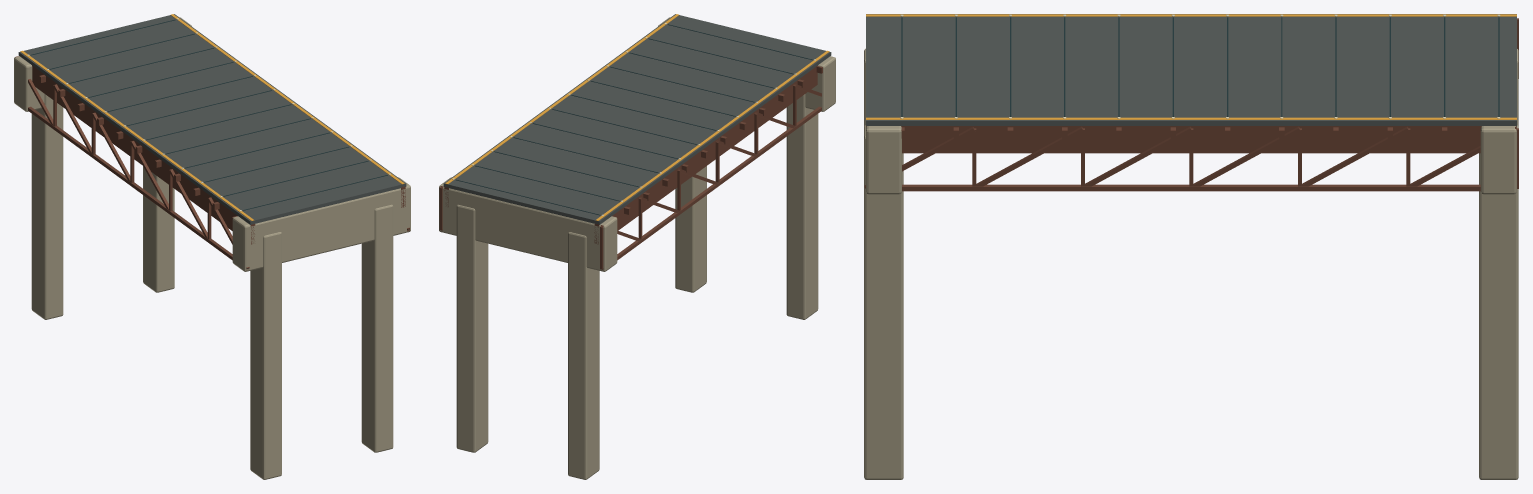
File: bridge_intact.glb
3 views of the same model, side by side, from view 1: azimuth 30°, elevation 25°; view 2: azimuth 150°, elevation 25°; view 3: azimuth 270°, elevation 25° (orthographic). The views are drawn at different scales.
Visible parts, largest first — view 1: Bridge wearing course, Bridge pier.003, Bridge pier.002, Concrete bridge abutment.001, Bridge pier, Bridge pier.001, Deep edge girder, Concrete bridge abutment, Bridge yellow edge.001, Bridge yellow edge; view 2: Bridge wearing course, Bridge pier.001, Bridge pier, Concrete bridge abutment, Bridge pier.002, Bridge pier.003, Deep edge girder, Concrete bridge abutment.001, Bridge yellow edge.001, Bridge yellow edge; view 3: Bridge wearing course, Deep edge girder.001, Bridge pier.003, Bridge pier.001, Concrete bridge abutment, Concrete bridge abutment.001, Bridge yellow edge, Bridge yellow edge.001, Underdeck truss lower chord.010, Underdeck truss lower chord.008, Underdeck truss lower chord.007, Underdeck truss lower chord.009 (+4 smaller).
Boxes of the visible parts, bbox=[...] form: Bridge wearing course: bbox=[18, 14, 406, 224]; Bridge pier.003: bbox=[361, 204, 393, 452]; Bridge pier.002: bbox=[250, 232, 281, 479]; Concrete bridge abutment.001: bbox=[232, 177, 410, 271]; Bridge pier: bbox=[31, 94, 63, 319]; Bridge pier.001: bbox=[143, 166, 174, 292]; Deep edge girder: bbox=[32, 65, 255, 244]; Concrete bridge abutment: bbox=[14, 17, 191, 111]; Bridge yellow edge.001: bbox=[171, 14, 404, 184]; Bridge yellow edge: bbox=[20, 50, 254, 220]; Bridge wearing course: bbox=[443, 14, 831, 224]; Bridge pier.001: bbox=[456, 204, 488, 452]; Bridge pier: bbox=[568, 232, 599, 479]; Concrete bridge abutment: bbox=[439, 177, 617, 271]; Bridge pier.002: bbox=[786, 94, 818, 319]; Bridge pier.003: bbox=[675, 166, 706, 292]; Deep edge girder: bbox=[594, 65, 817, 244]; Concrete bridge abutment.001: bbox=[658, 17, 835, 111]; Bridge yellow edge.001: bbox=[445, 14, 678, 184]; Bridge yellow edge: bbox=[595, 50, 829, 220]; Bridge wearing course: bbox=[866, 14, 1516, 125]; Deep edge girder.001: bbox=[866, 126, 1516, 153]; Bridge pier.003: bbox=[864, 125, 903, 479]; Bridge pier.001: bbox=[1479, 125, 1518, 479]; Concrete bridge abutment: bbox=[1480, 126, 1516, 194]; Concrete bridge abutment.001: bbox=[866, 126, 901, 194]; Bridge yellow edge: bbox=[866, 14, 1516, 16]; Bridge yellow edge.001: bbox=[866, 117, 1516, 119]; Underdeck truss lower chord.010: bbox=[974, 184, 1082, 191]; Underdeck truss lower chord.008: bbox=[1191, 184, 1299, 191]; Underdeck truss lower chord.007: bbox=[1300, 184, 1408, 191]; Underdeck truss lower chord.009: bbox=[1083, 184, 1191, 191].
Bounding box in the file's own units: 15 × 22.57 × 36.21.
